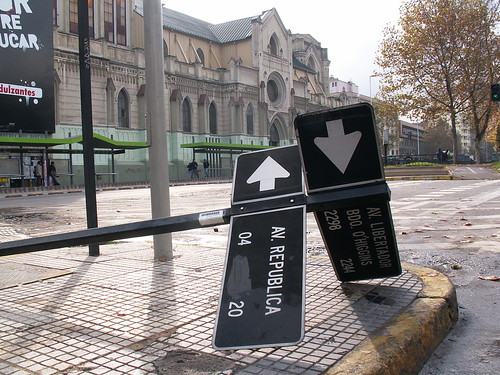building: (55, 1, 396, 170)
sidewalk: (1, 245, 421, 375)
sign: (233, 102, 408, 363)
street: (106, 172, 500, 257)
tree: (382, 1, 500, 159)
